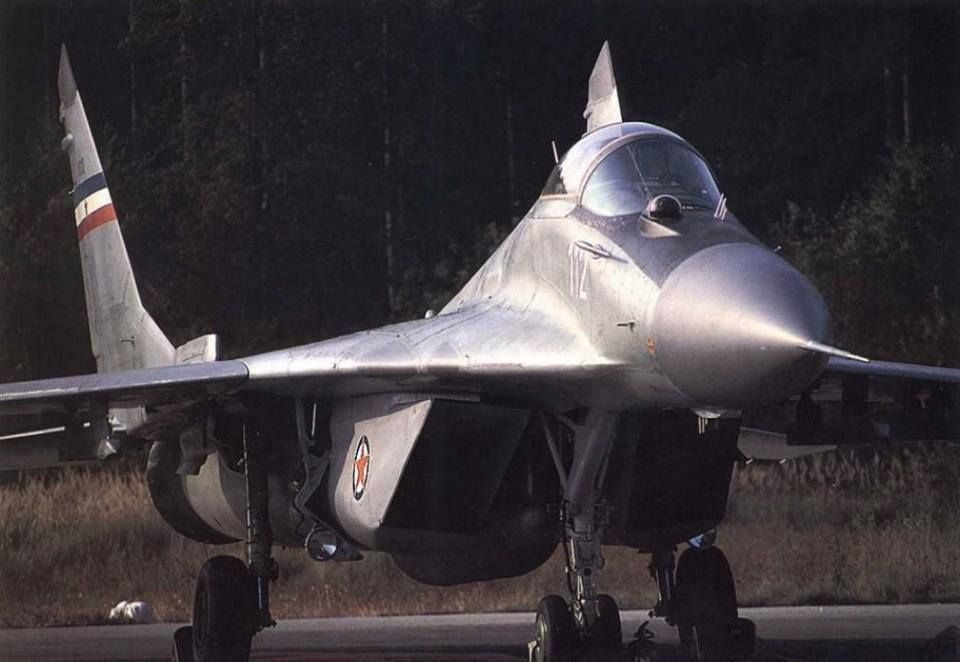Mig-29: (17, 25, 942, 638)
